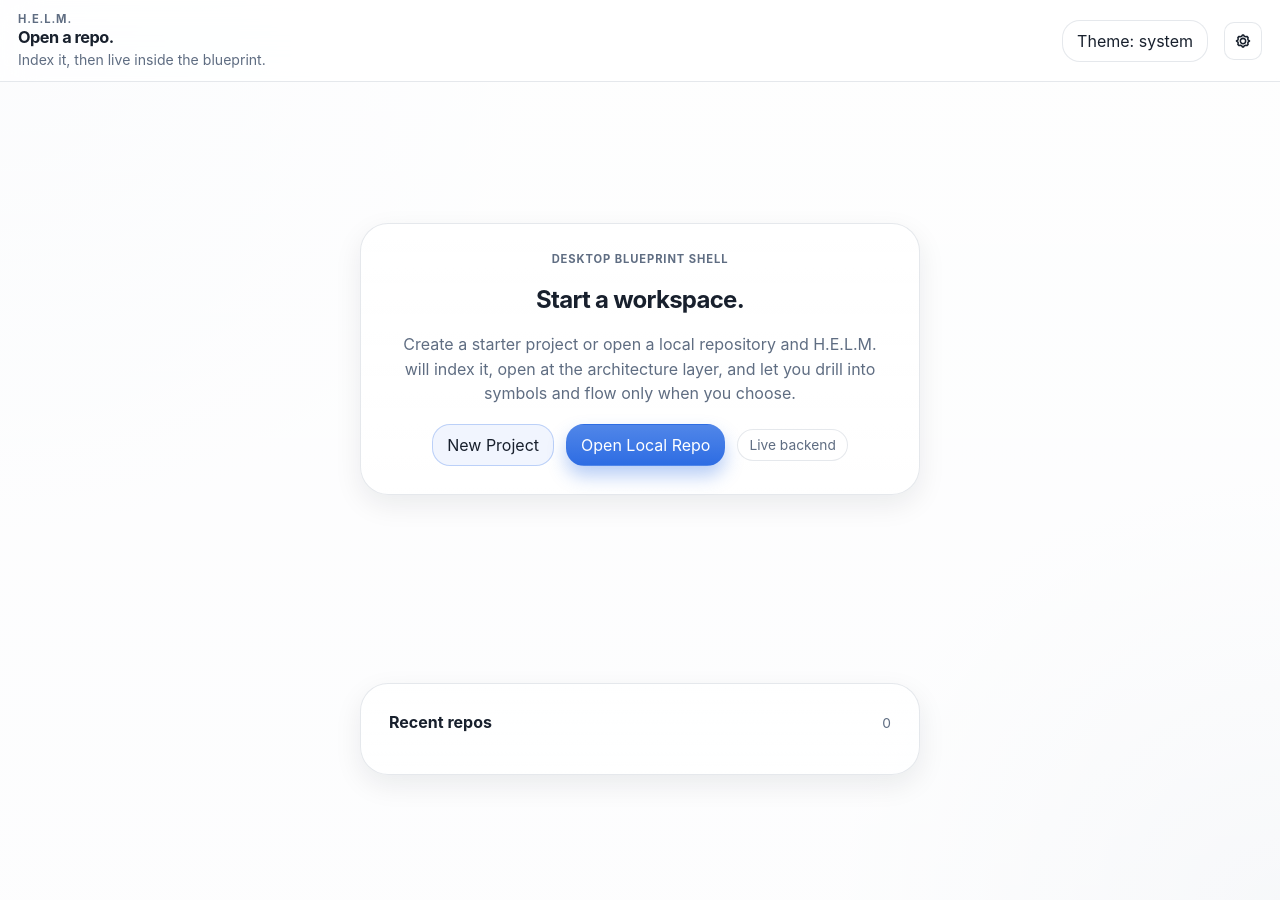
welcome flow › creates a new project and navigates into indexing
The width and height of the screenshot is (1280, 900).
Click the button "New Project" at [493, 445], box 432,424 -> 554,466
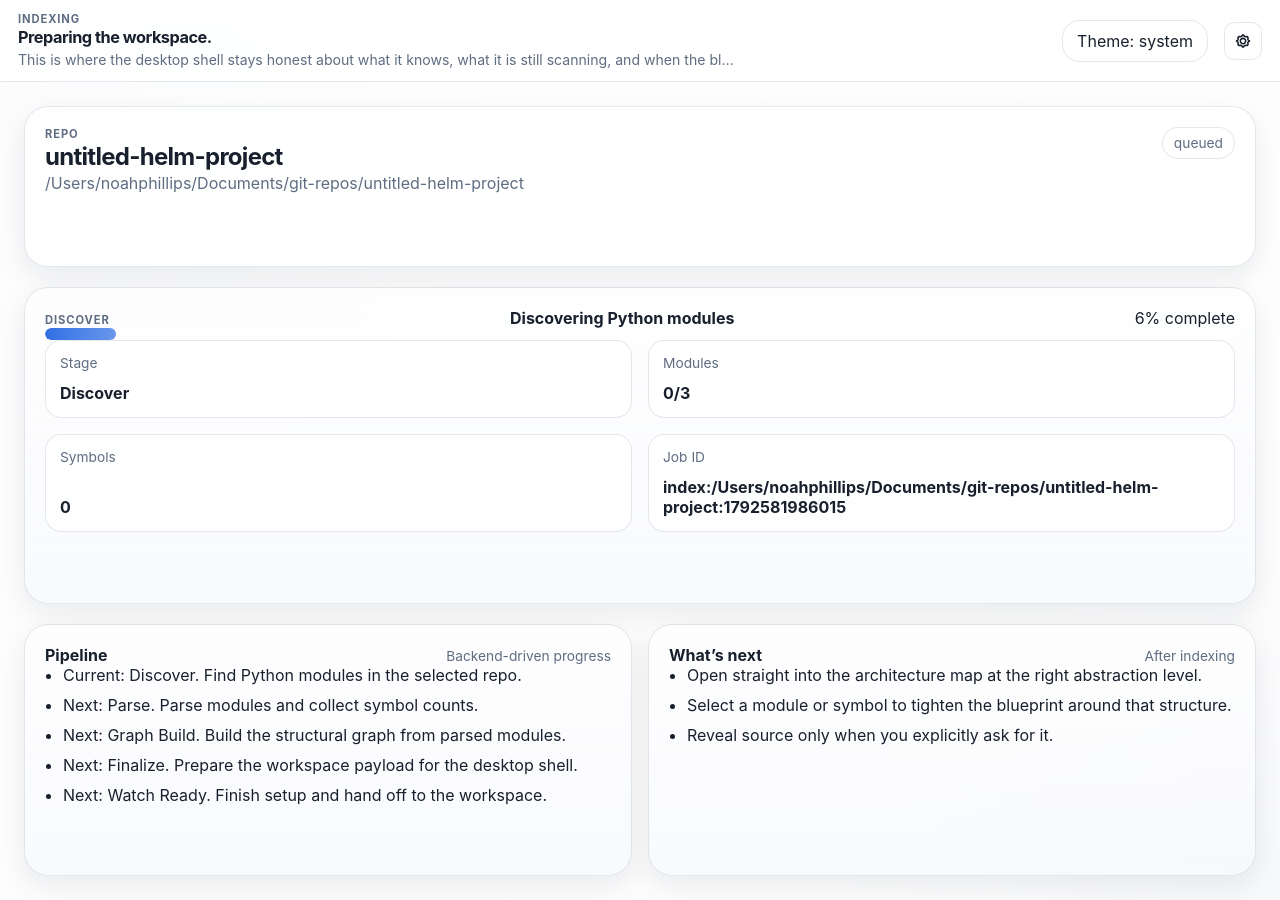
Result: the heading "Preparing the workspace." is shown at 18,27 -> 212,47
Result: the heading "untitled-helm-project" is shown at 45,142 -> 283,171
Result: the text "Job ID" is shown at 663,449 -> 705,465
